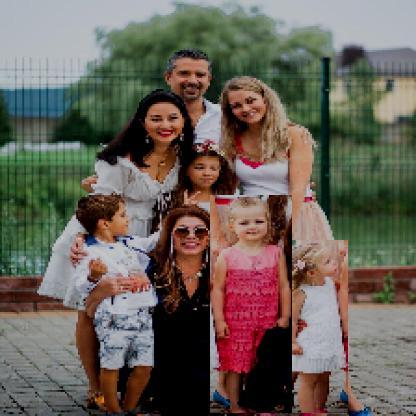child: (72, 191, 161, 416), (211, 196, 294, 415), (282, 241, 350, 415)
